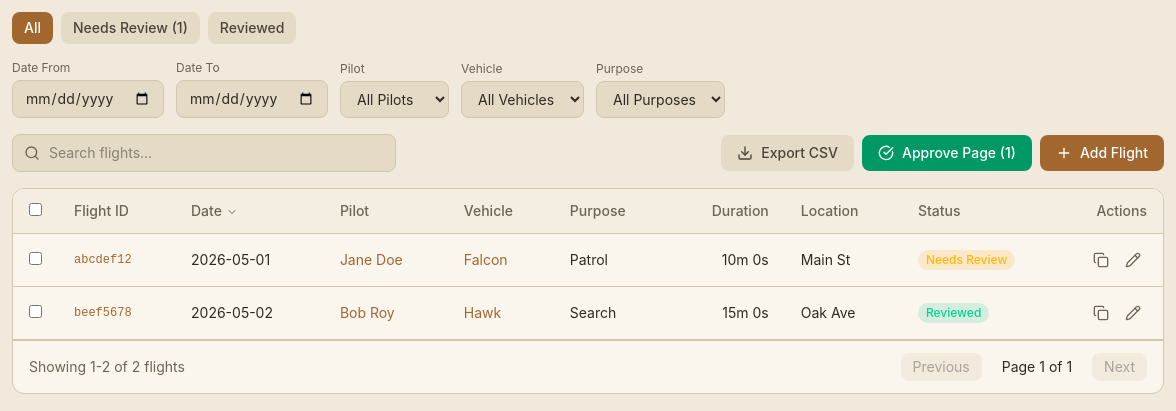
Test: FlightsPage › searches on the server so every flight is covered, not just this page
Expected: the link "Jane Doe" is shown, x1=340 y1=251 x2=403 y2=268
In the field with placeholder "Search flights...": (204, 153) x1=12 y1=134 x2=396 y2=172, type "Bob"
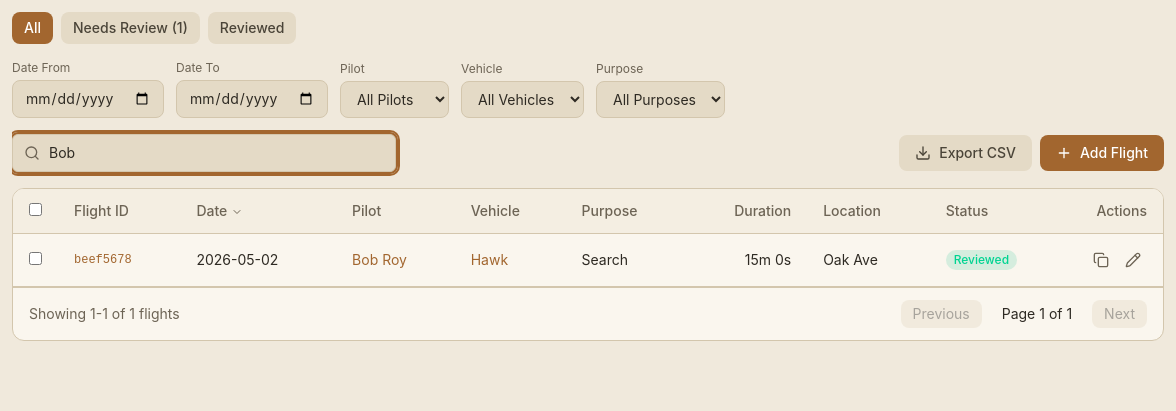
Expected: the link "Bob Roy" is shown, x1=352 y1=251 x2=407 y2=268
Result: the link "Jane Doe" is gone
